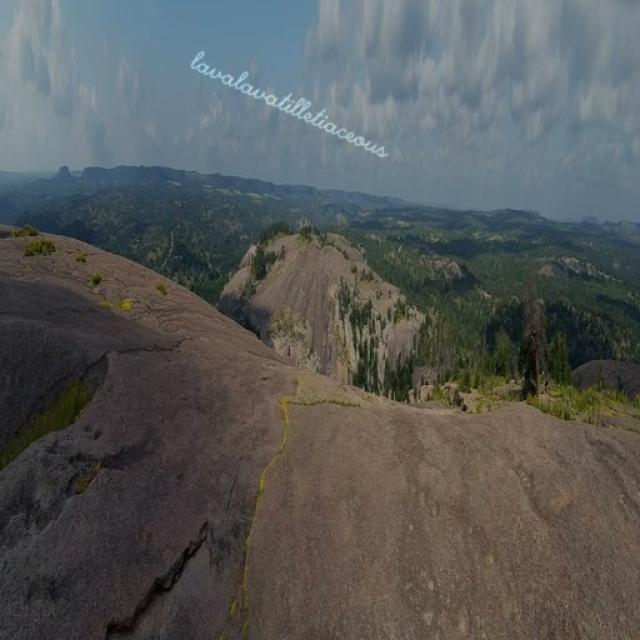watermark: (182, 45, 404, 162)
